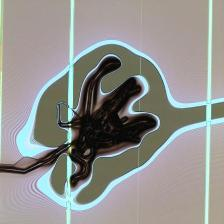PARTICLE: (1, 38, 224, 214)
